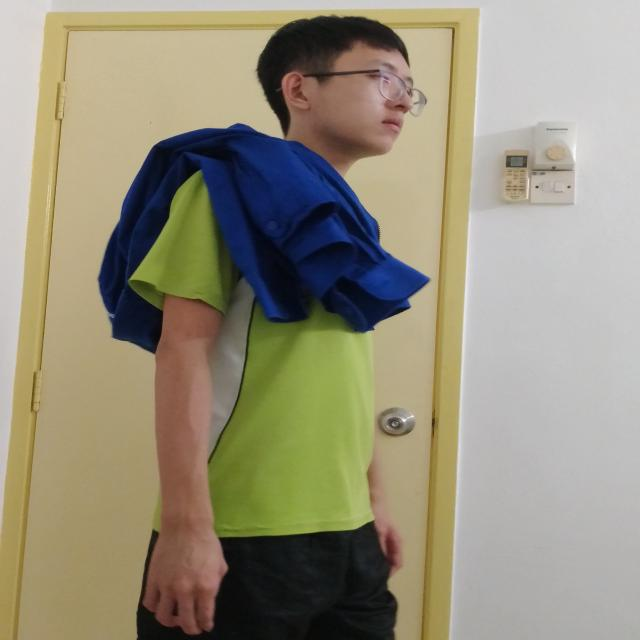person_without_labcoat: (100, 16, 429, 640)
